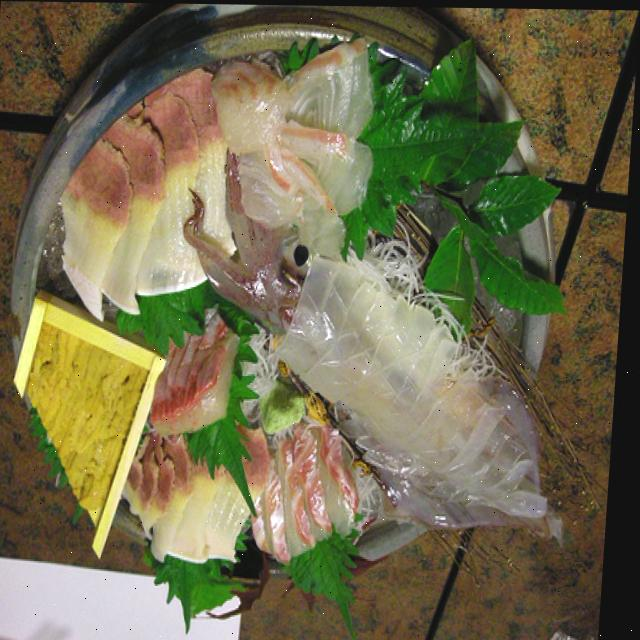刺身生食: (0, 0, 629, 626)
